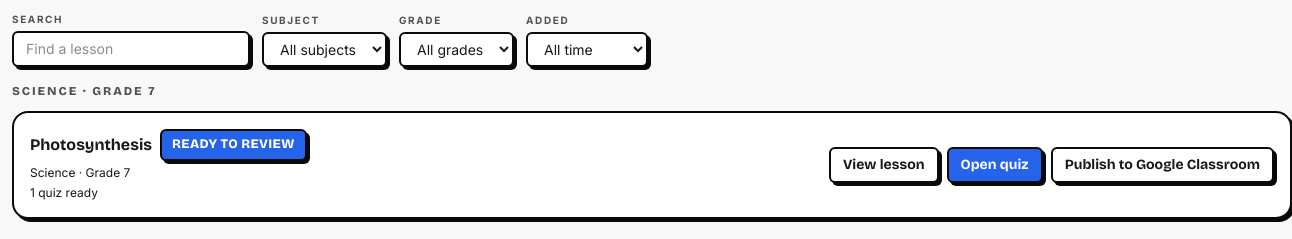
Test: LessonLibrary — Publish to Classroom (gated on googleCourseId) › shows a "Reconnect Google" link when needsReconnect:true is returned
Step 1. Click the button with aria-label "publish to google classroom — Photosynthesis" → coordinates (1162, 165), box [1051,147,1274,183]
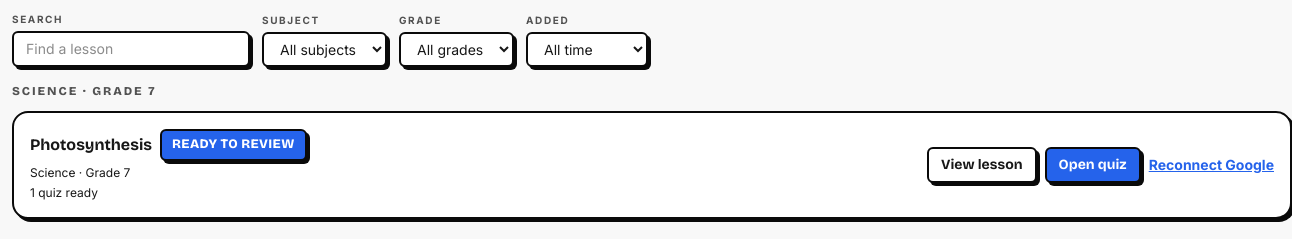
Now the link "Reconnect Google" is shown, box [1149,155,1274,175]
